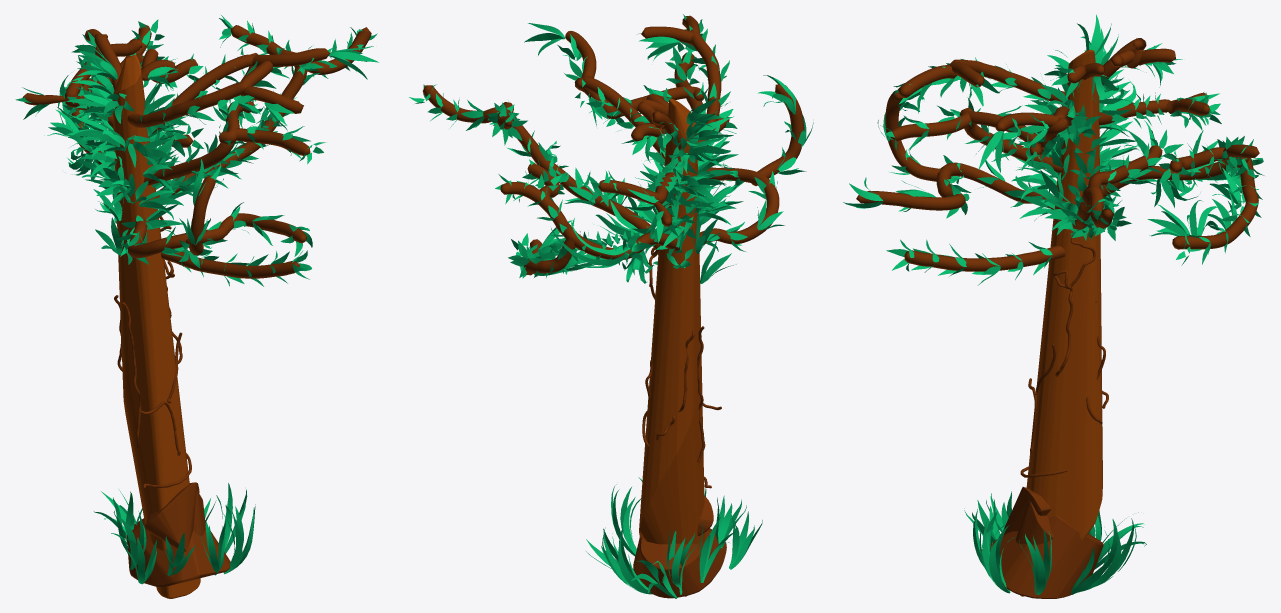
Rendered from Tree01.glb.
The picture shows the model from 3 angles, left to right: view 1: azimuth 30°, elevation 25°; view 2: azimuth 150°, elevation 25°; view 3: azimuth 270°, elevation 25°; orthographic projection. The views are drawn at different scales.
Parts seen in each view (by area): view 1: brush_Petal_g0_b0, brush_MatteHull_g0_b0, brush_Icing_g0_b0; view 2: brush_Petal_g0_b0, brush_MatteHull_g0_b0, brush_Icing_g0_b0; view 3: brush_Petal_g0_b0, brush_MatteHull_g0_b0, brush_Icing_g0_b0.
Boxes of the visible parts, x1=… form: brush_Petal_g0_b0: x1=15, y1=15, x2=378, y2=584; brush_MatteHull_g0_b0: x1=112, y1=54, x2=230, y2=598; brush_Icing_g0_b0: x1=22, y1=24, x2=371, y2=488; brush_Petal_g0_b0: x1=409, y1=14, x2=813, y2=598; brush_MatteHull_g0_b0: x1=633, y1=99, x2=726, y2=598; brush_Icing_g0_b0: x1=422, y1=15, x2=804, y2=488; brush_Petal_g0_b0: x1=843, y1=14, x2=1264, y2=594; brush_MatteHull_g0_b0: x1=981, y1=49, x2=1103, y2=598; brush_Icing_g0_b0: x1=856, y1=38, x2=1259, y2=477.
Bounding box in the file's own units: 1.41 × 2.27 × 1.58.
